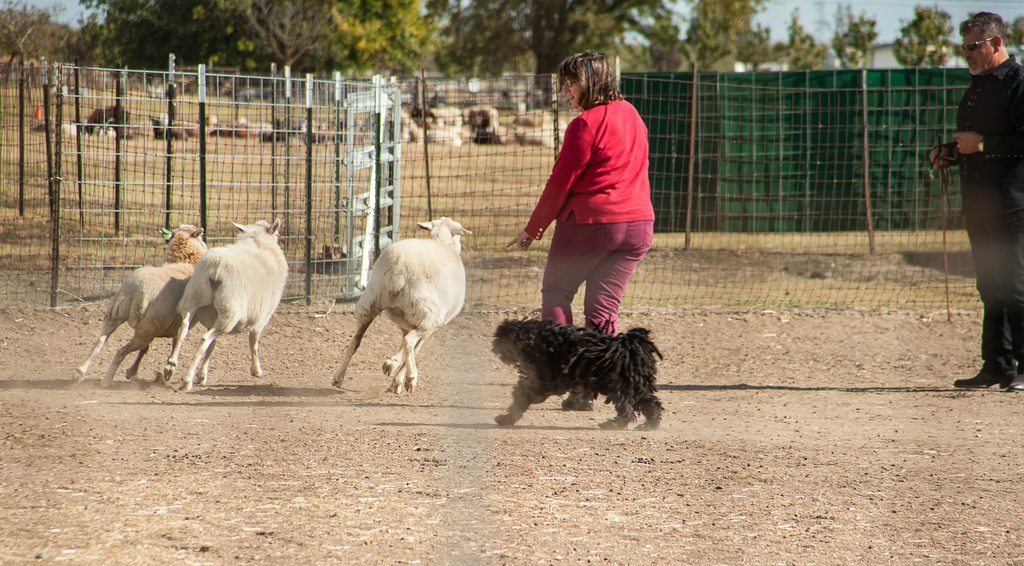sheep: (331, 216, 472, 390), (167, 226, 286, 384)
